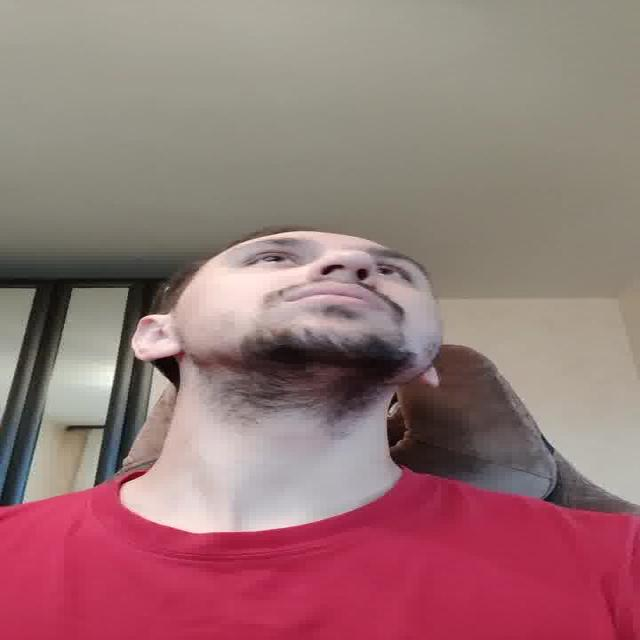earlobe: (416, 372, 441, 389), (146, 348, 181, 360)
eye: (250, 253, 302, 266), (370, 263, 412, 279)
nose: (312, 268, 372, 284)
wholeear: (132, 314, 180, 360)
